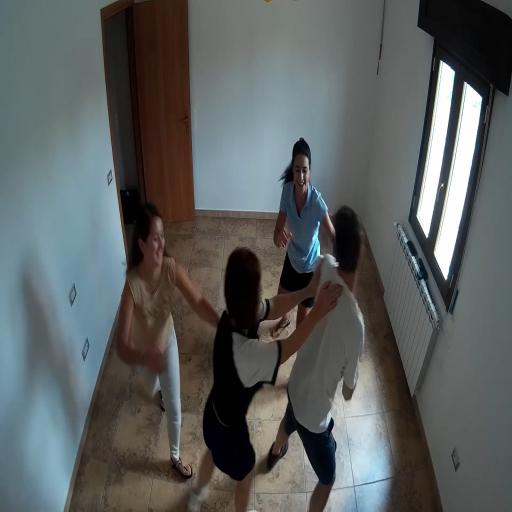violencia: (193, 203, 386, 512)
